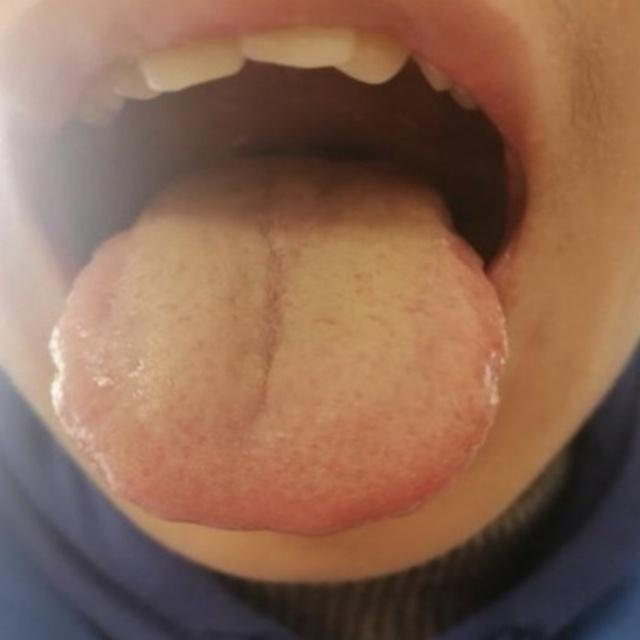baitaishe: (48, 159, 509, 537)
